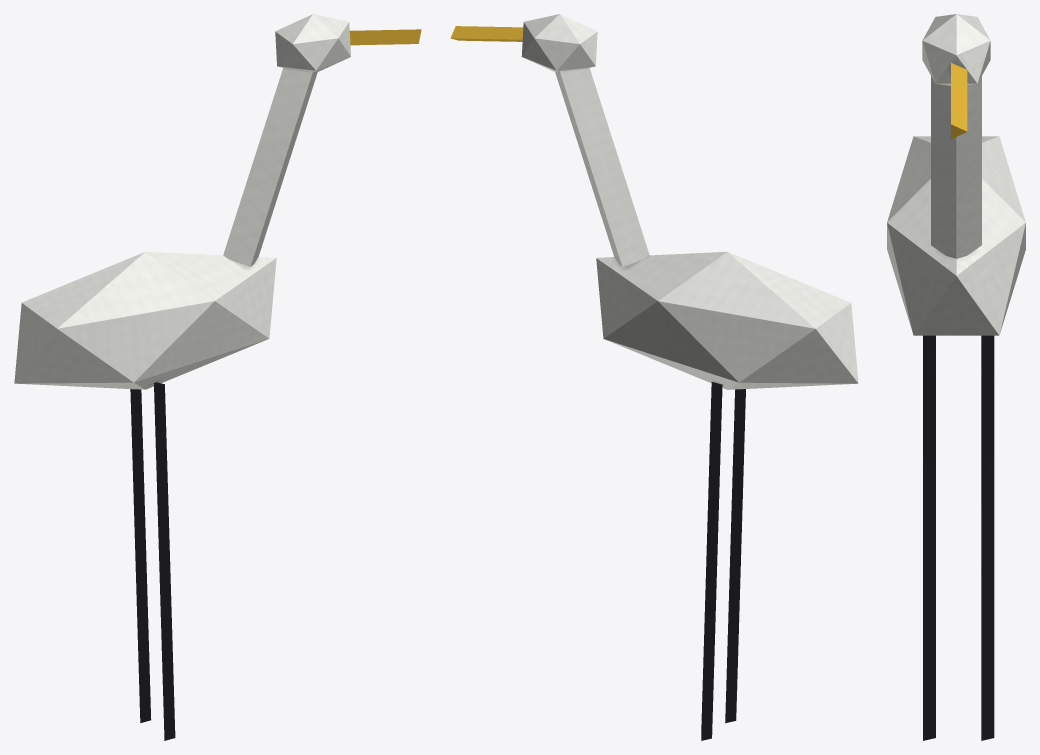
The model's file is hager_tex.glb.
3 views of the same model, side by side, from view 1: azimuth 30°, elevation 25°; view 2: azimuth 150°, elevation 25°; view 3: azimuth 270°, elevation 25° (orthographic). The views are drawn at different scales.
Visible parts, largest first — view 1: hager; view 2: hager; view 3: hager.
Part boxes in pixels (x1,y1,x2,y2): hager: [14, 14, 421, 740]; hager: [450, 14, 858, 740]; hager: [887, 14, 1025, 740].
Bounding box in the file's own units: 0.7732 × 1.24 × 0.1905.
3 materials, 3 textured.
